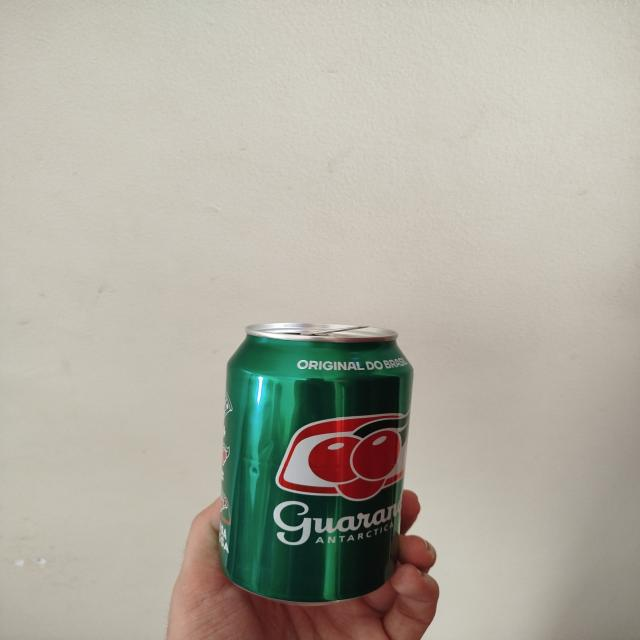Guarana: (220, 322, 415, 609)
